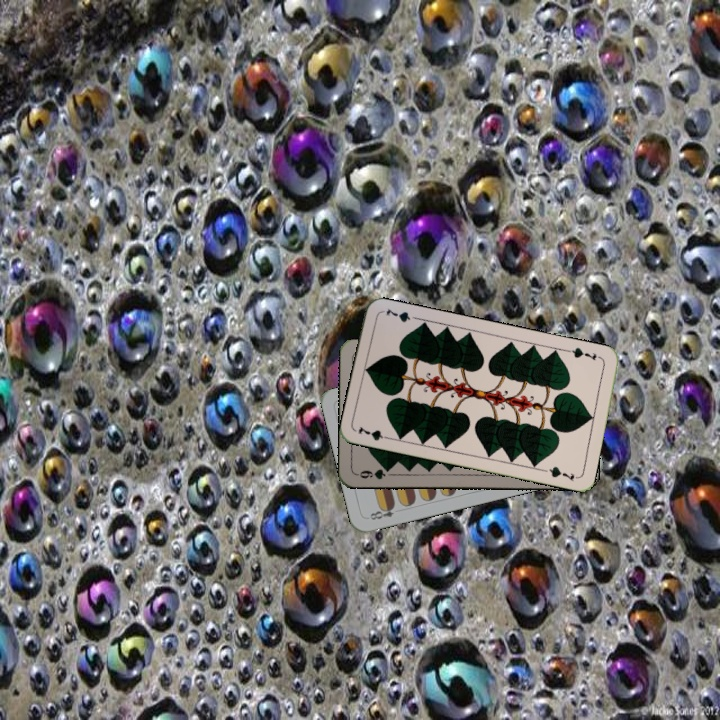E8: (364, 501, 397, 523)
G7: (354, 422, 394, 443), (564, 343, 599, 363)
G9: (353, 464, 394, 482)
